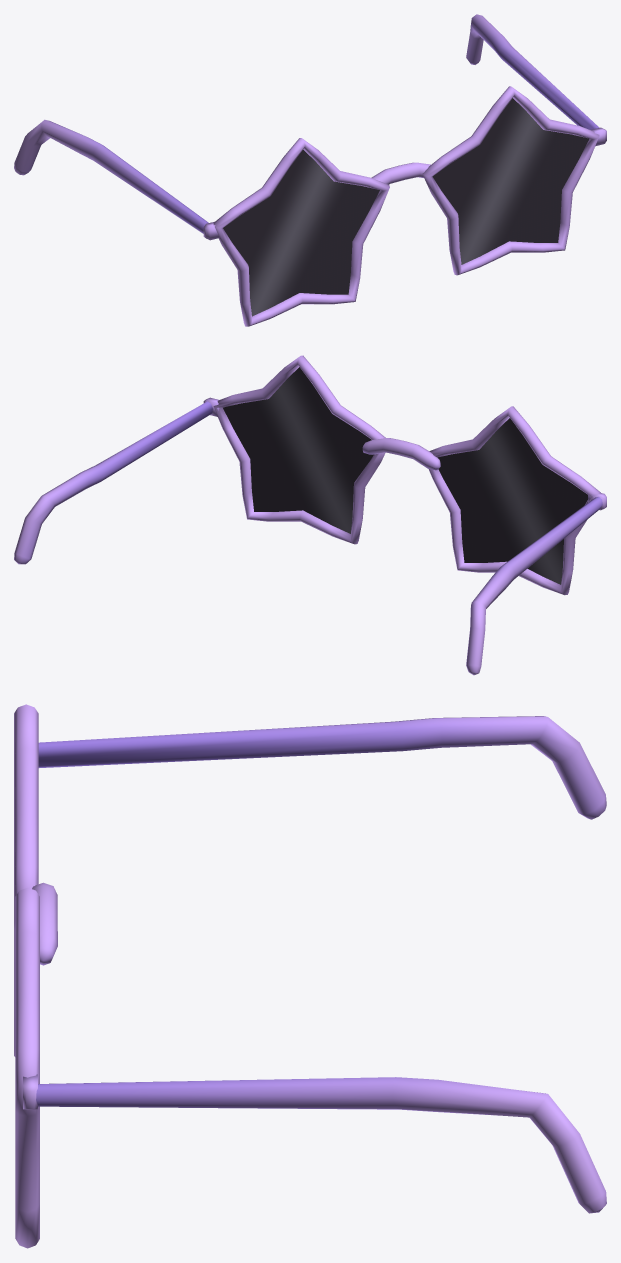
Rendered from EYE_starshades.fbx.
The picture shows the model from 3 angles, top to bottom: view 1: azimuth 30°, elevation 25°; view 2: azimuth 150°, elevation 25°; view 3: azimuth 270°, elevation 25°; orthographic projection. The views are drawn at different scales.
Visible parts, largest first — view 1: star_lens, star_frames; view 2: star_lens, star_frames; view 3: star_frames.
Boxes of the visible parts, x1=… form: star_lens: x1=223, y1=98, x2=589, y2=316; star_frames: x1=14, y1=14, x2=606, y2=326; star_lens: x1=223, y1=367, x2=587, y2=584; star_frames: x1=14, y1=355, x2=606, y2=675; star_frames: x1=14, y1=704, x2=606, y2=1248.
Bounding box in the file's own units: 76.56 × 27.74 × 47.31.
2 materials, 2 textured.
